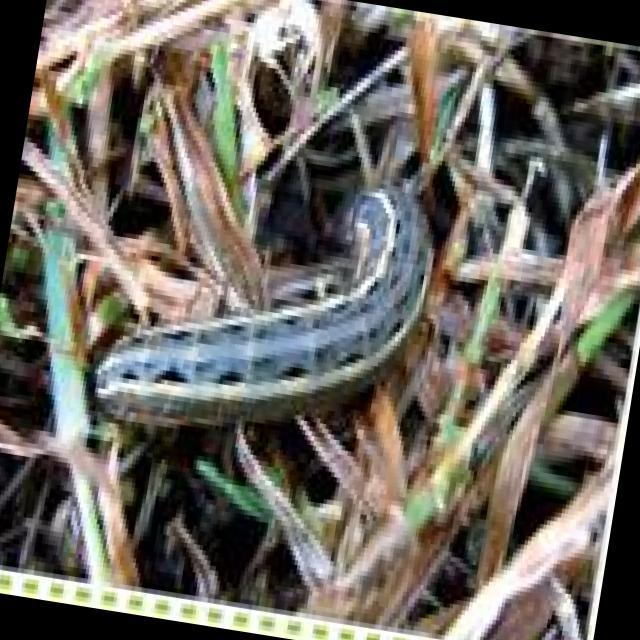Plaga: (84, 136, 452, 458)
